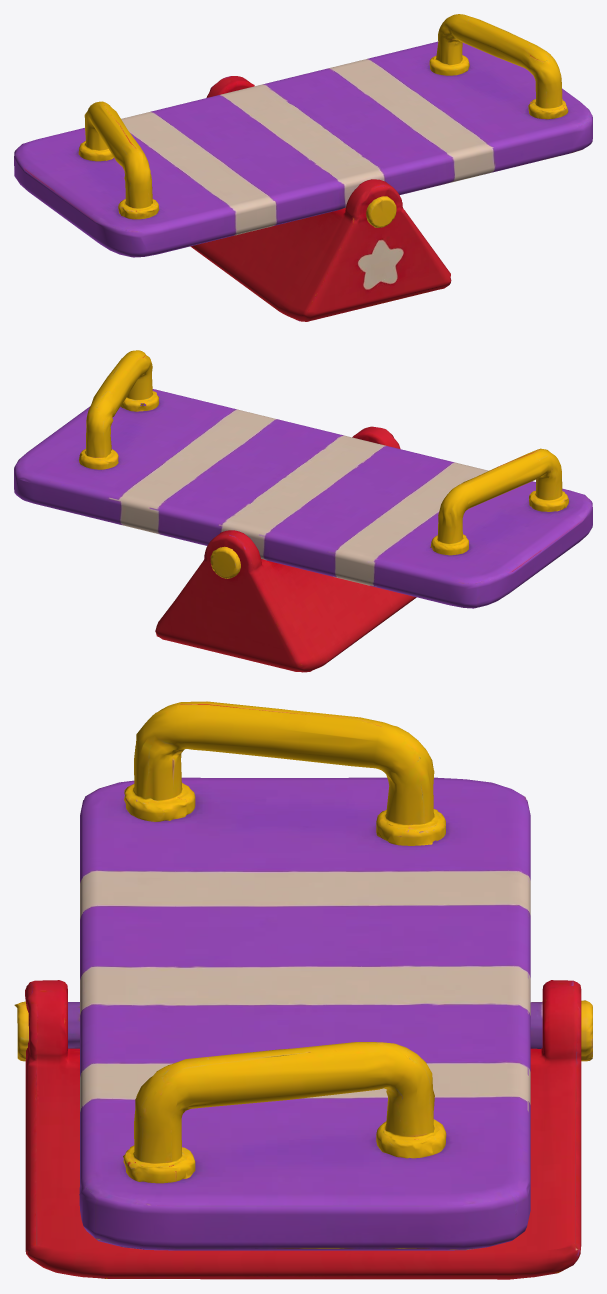
File: seesaw.glb
The picture shows the model from 3 angles, top to bottom: view 1: azimuth 30°, elevation 25°; view 2: azimuth 150°, elevation 25°; view 3: azimuth 270°, elevation 25°; orthographic projection. The views are drawn at different scales.
Size of what is drawn, in the model's own units: 2.75 by 1 by 1.56.
Materials: 1 (1 with a texture image).
